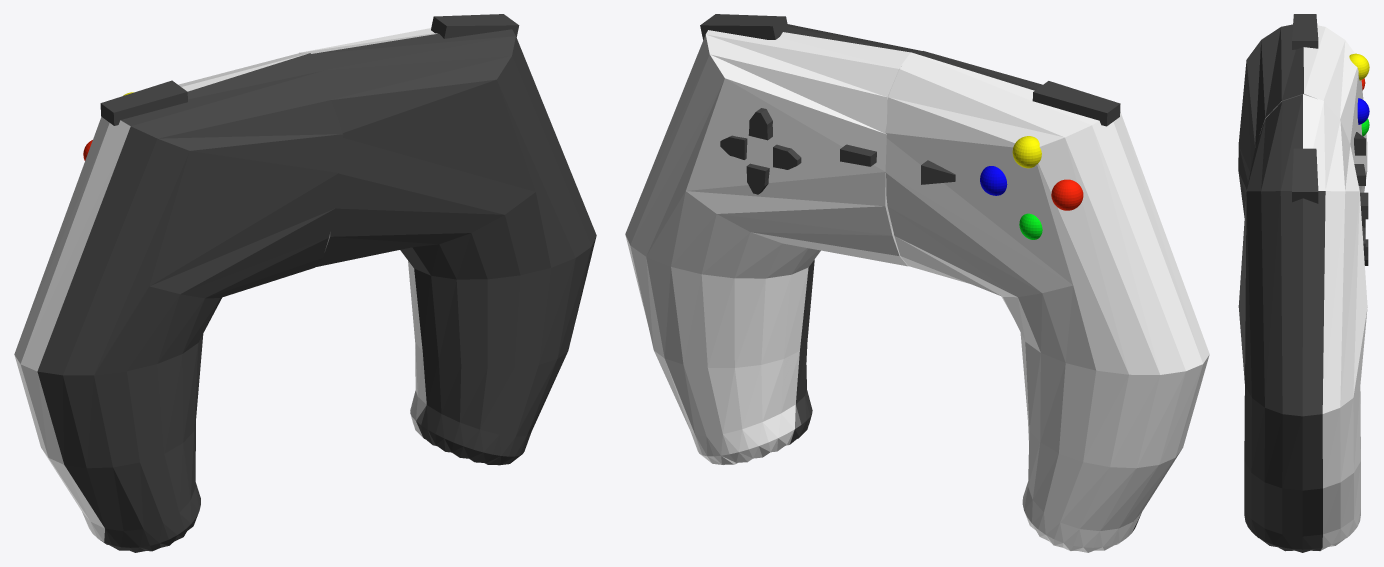
File: controller.glb
3 renders of one model, left to right at view 1: azimuth 30°, elevation 25°; view 2: azimuth 150°, elevation 25°; view 3: azimuth 270°, elevation 25°, orthographic. The views are drawn at different scales.
Size of the model in its own units: 4.09 by 3.03 by 0.9504.
2 materials, 2 textured.
